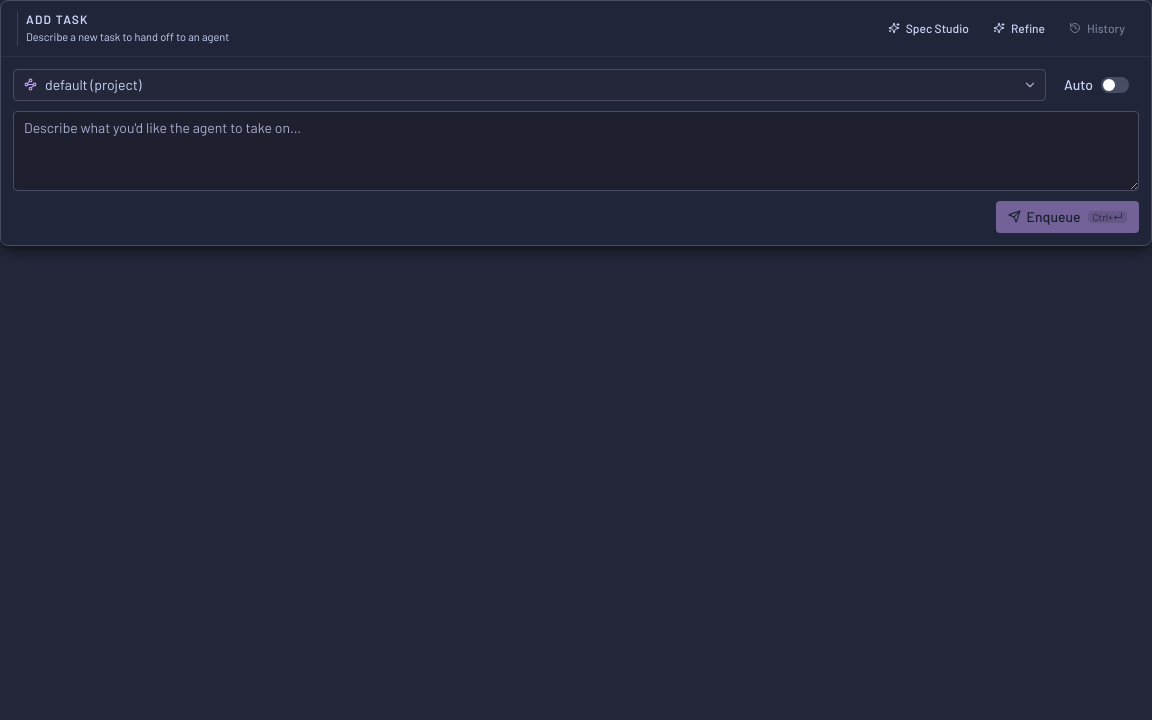
Scenario: PromptComposer composer assist handoff › asks replace or append when Add Task already has body text
Type "Existing task draft." into the text box with placeholder "Describe what you'd like the agent to take on…". click: (576, 150)
box: [13,110,1139,190]
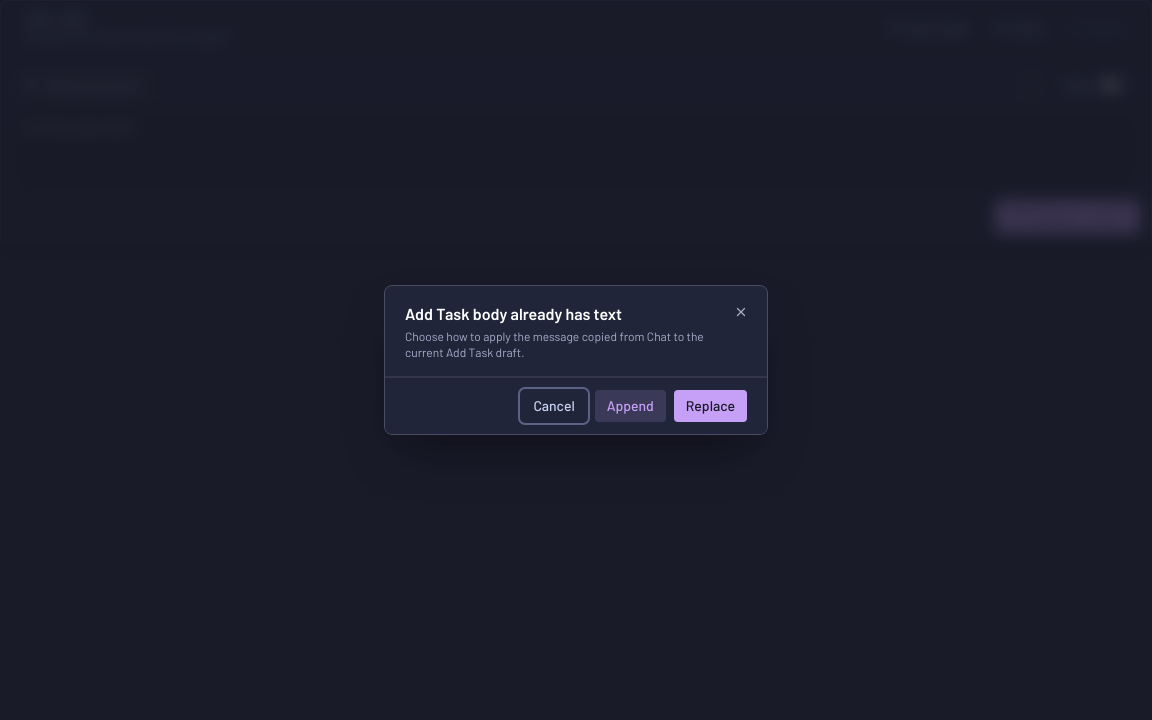
Expected: the heading "Add Task body already has text" is shown, [405,304,622,323]
Click the button "Append". click: (630, 406)
box: [595,390,666,422]
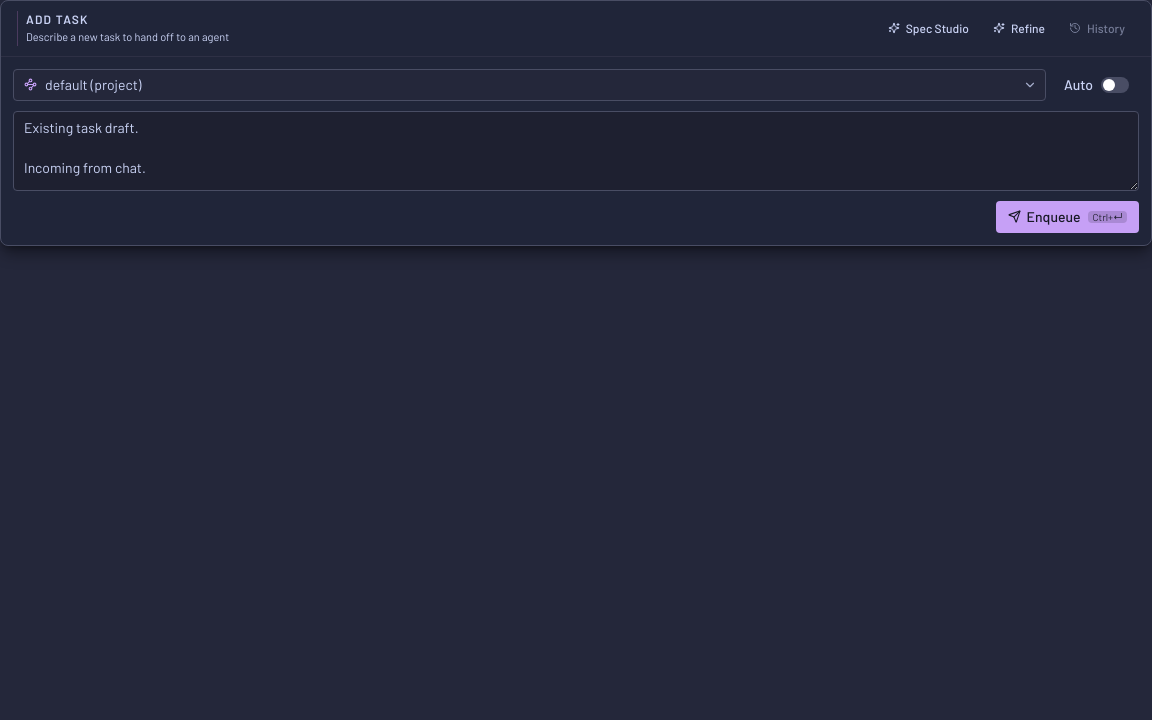
Expected: the text box is shown, [13,110,1139,190]
